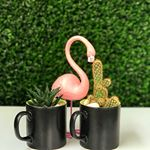cups: (12, 95, 69, 150), (71, 96, 121, 150)
